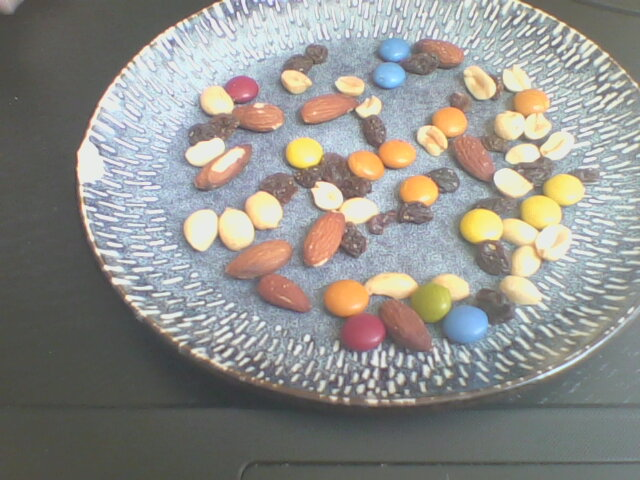almond: (376, 299, 434, 354), (192, 142, 251, 191), (226, 239, 293, 282), (302, 209, 347, 269), (257, 273, 312, 313), (451, 136, 496, 184), (301, 93, 360, 126), (231, 101, 285, 131), (413, 38, 464, 68)
mm: (442, 304, 490, 343), (341, 313, 385, 352), (324, 280, 370, 316), (411, 282, 452, 322), (460, 208, 503, 244), (521, 195, 562, 230), (543, 174, 585, 205), (285, 137, 323, 169), (401, 175, 439, 207), (347, 151, 384, 182), (380, 140, 417, 170), (432, 107, 468, 137), (371, 61, 407, 89), (513, 89, 550, 115), (223, 75, 258, 102), (377, 37, 412, 61)
peanut: (218, 205, 255, 250), (245, 190, 284, 231), (184, 208, 218, 251), (364, 272, 418, 299), (536, 224, 573, 263), (500, 275, 543, 306), (493, 167, 535, 197), (425, 274, 470, 302), (463, 64, 497, 99), (186, 136, 225, 166), (540, 131, 576, 161), (502, 218, 539, 247), (200, 85, 234, 116), (342, 196, 380, 223), (311, 181, 344, 211), (507, 246, 540, 276), (417, 125, 449, 155), (502, 62, 532, 93), (494, 110, 524, 141), (280, 69, 313, 94), (523, 111, 552, 139), (504, 143, 541, 164), (334, 76, 365, 97), (356, 96, 382, 118)
raisin: (473, 288, 514, 324), (258, 172, 298, 204), (476, 241, 510, 276), (320, 151, 350, 186), (339, 222, 367, 258), (515, 158, 553, 184), (473, 197, 520, 218), (425, 167, 460, 193), (361, 115, 387, 148), (398, 202, 434, 225), (404, 52, 439, 75), (368, 210, 399, 234), (340, 176, 372, 199), (188, 123, 218, 144), (284, 55, 313, 74), (210, 115, 237, 135), (297, 168, 325, 187), (306, 43, 330, 65), (450, 90, 473, 112), (568, 169, 599, 183)
